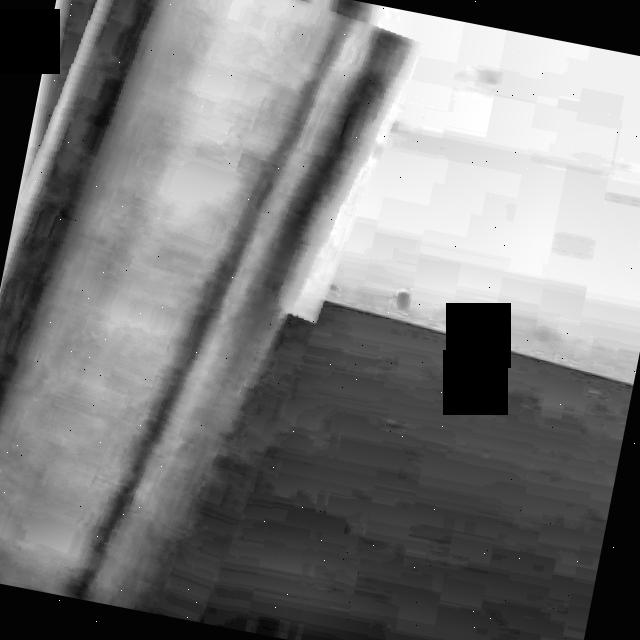bottle: (0, 0, 425, 612)
